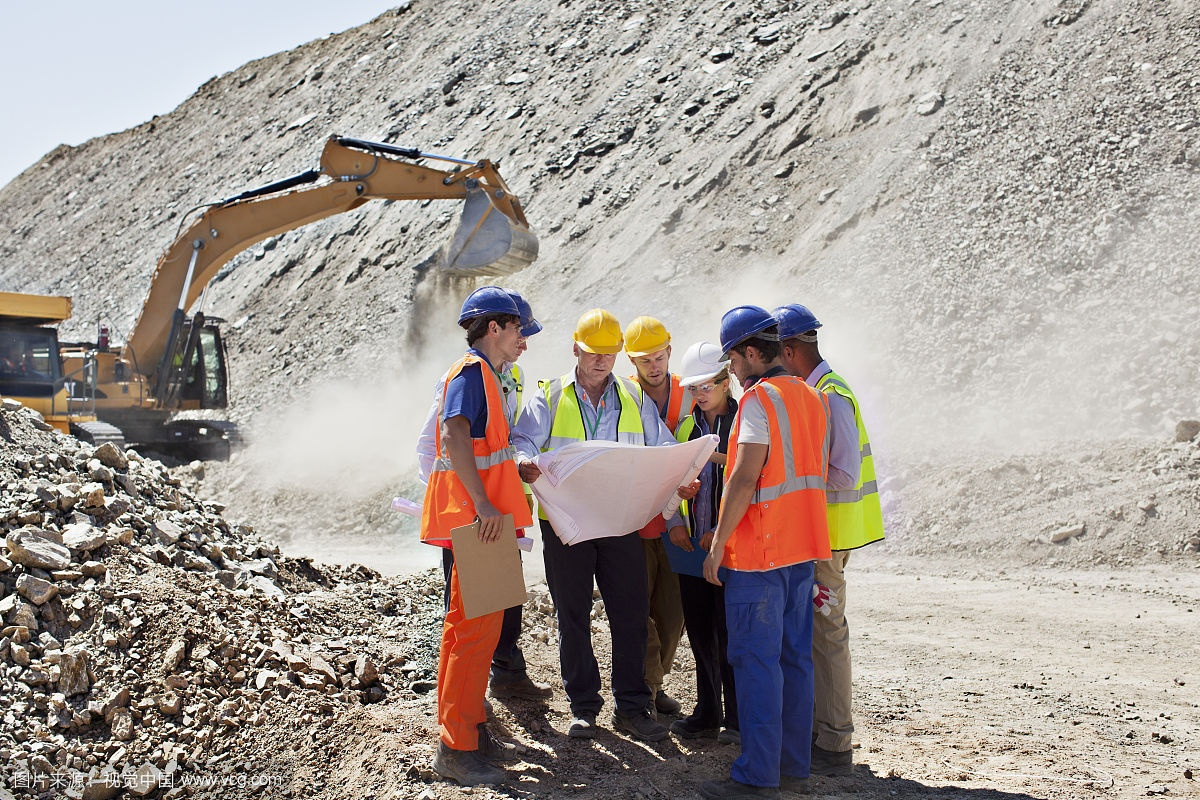blue: (451, 286, 522, 364), (714, 305, 779, 380), (768, 301, 823, 378)
white: (676, 336, 733, 417)
yellow: (569, 305, 626, 387), (618, 309, 675, 387)
